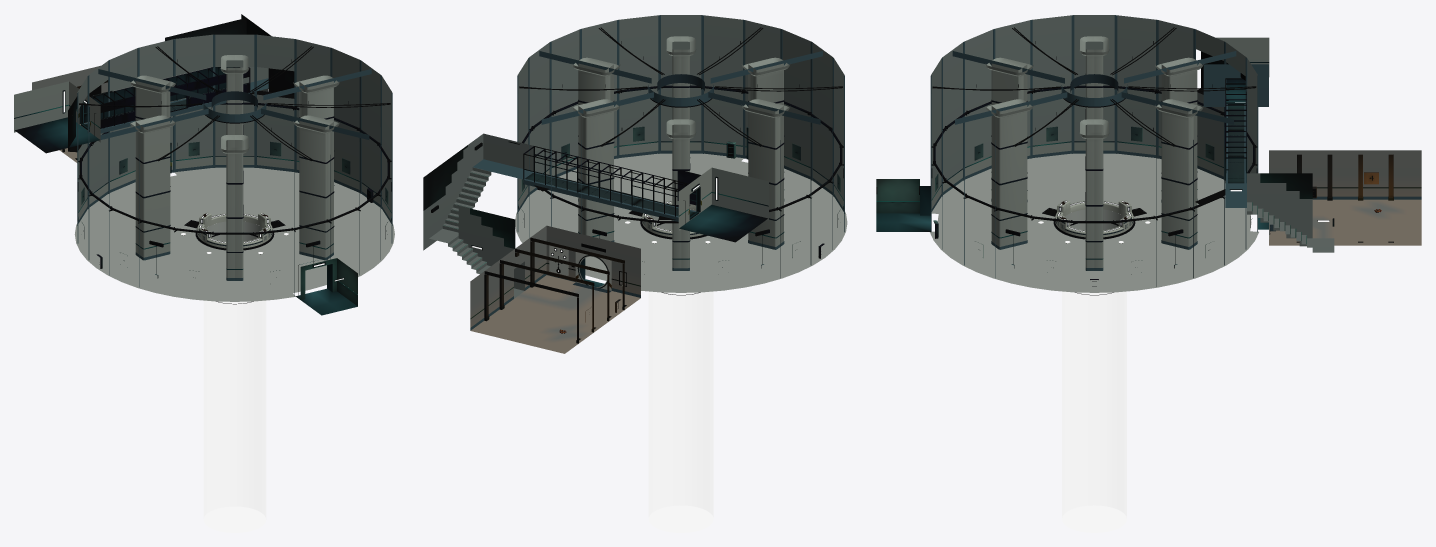
File: env_the_bore.glb
The picture shows the model from 3 angles, left to right: view 1: azimuth 30°, elevation 25°; view 2: azimuth 150°, elevation 25°; view 3: azimuth 270°, elevation 25°; orthographic projection. The views are drawn at different scales.
Parts seen in each view (by area): view 1: chunk_bo_chamber__m_pellam, bore_glow, chunk_bo_ante__m_pellam, chunk_bo_chamber__m_mask; view 2: chunk_bo_chamber__m_pellam, chunk_bo_ante__m_pellam, bore_glow, chunk_bo_chamber__m_mask; view 3: chunk_bo_chamber__m_pellam, bore_glow, chunk_bo_ante__m_pellam, chunk_bo_chamber__m_mask.
Part boxes in pixels (x1,y1,x2,y2): chunk_bo_chamber__m_pellam: [15, 34, 394, 315]; bore_glow: [199, 213, 269, 532]; chunk_bo_ante__m_pellam: [14, 14, 271, 162]; chunk_bo_chamber__m_mask: [84, 67, 249, 128]; chunk_bo_chamber__m_pellam: [463, 15, 847, 295]; chunk_bo_ante__m_pellam: [423, 148, 685, 353]; bore_glow: [644, 202, 713, 532]; chunk_bo_chamber__m_mask: [525, 173, 694, 215]; chunk_bo_chamber__m_pellam: [876, 15, 1269, 295]; bore_glow: [1058, 201, 1130, 532]; chunk_bo_ante__m_pellam: [1260, 62, 1421, 252]; chunk_bo_chamber__m_mask: [1228, 104, 1244, 183].
Bounding box in the file's own units: 30.5 × 44 × 50.
